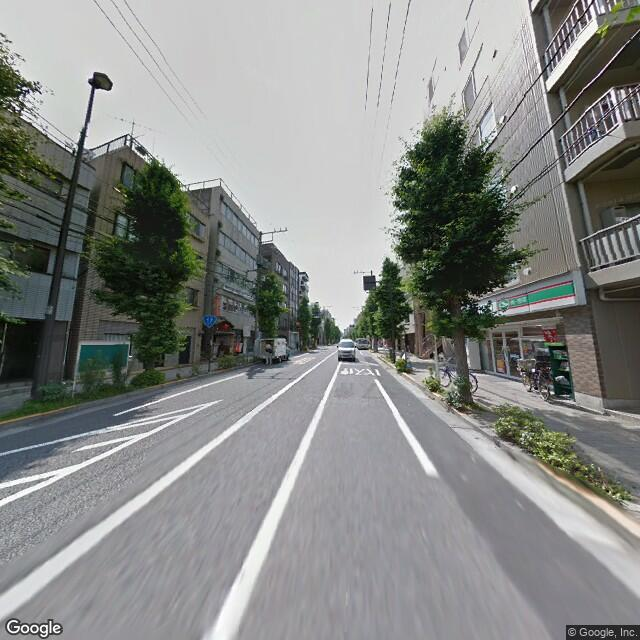lawson: (487, 279, 582, 321)
